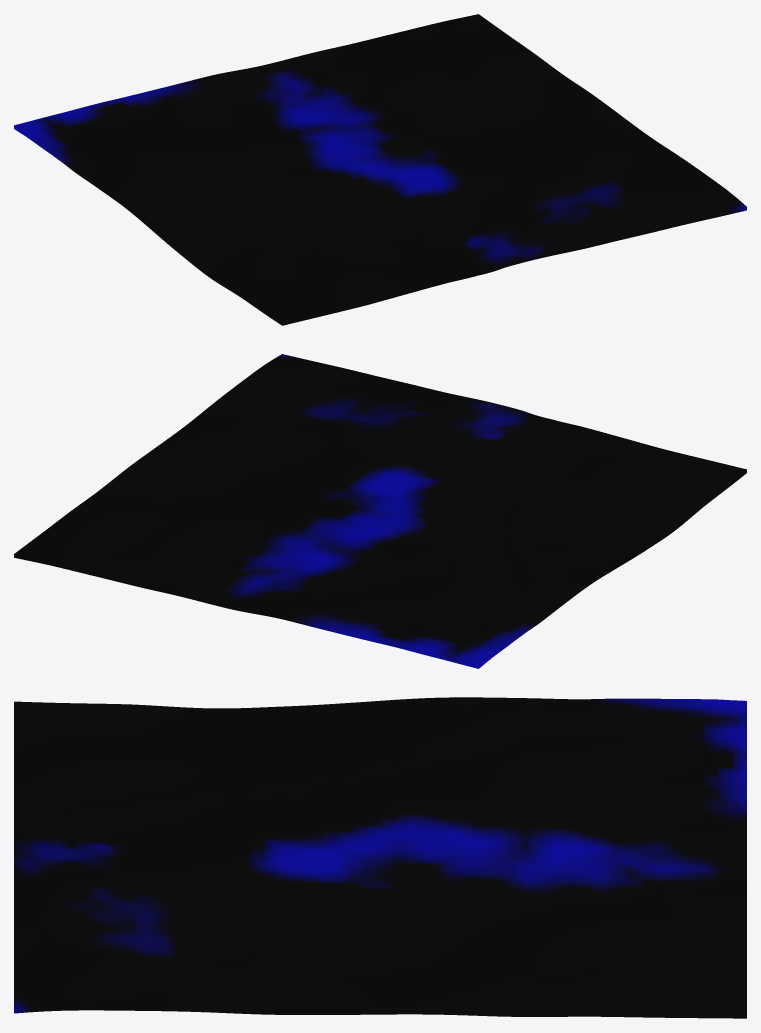
File: coast_12_8.glb
3 renders of one model, top to bottom at view 1: azimuth 30°, elevation 25°; view 2: azimuth 150°, elevation 25°; view 3: azimuth 270°, elevation 25°, orthographic. The views are drawn at different scales.
Visible parts, largest first — view 1: terrain; view 2: terrain; view 3: terrain.
Boxes of the visible parts, x1,y1,x2,y2 form: terrain: (14, 14, 746, 325); terrain: (14, 354, 746, 668); terrain: (14, 697, 746, 1018).
Size of the model in its own units: 200 by 6.03 by 200.
